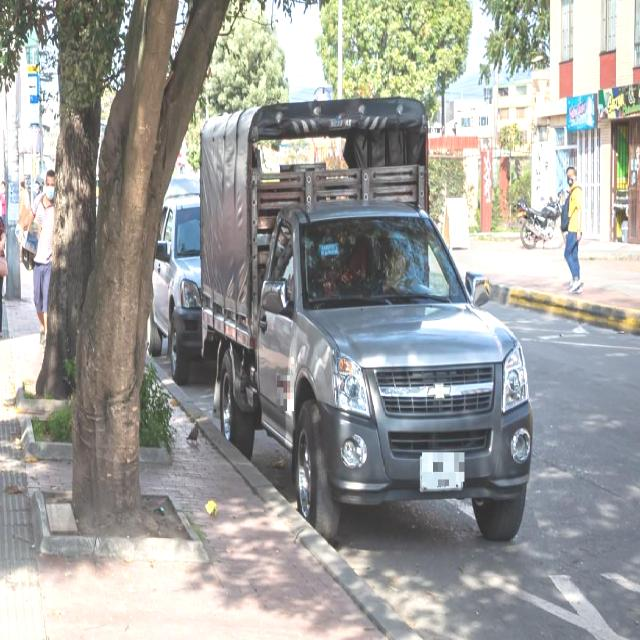CMT: (205, 114, 538, 539)
